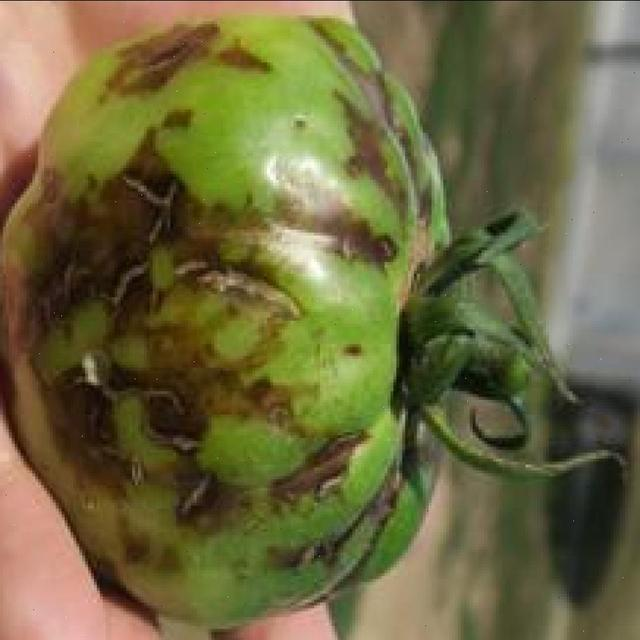Spotted wilt Virus Fruit: (0, 10, 309, 419)
